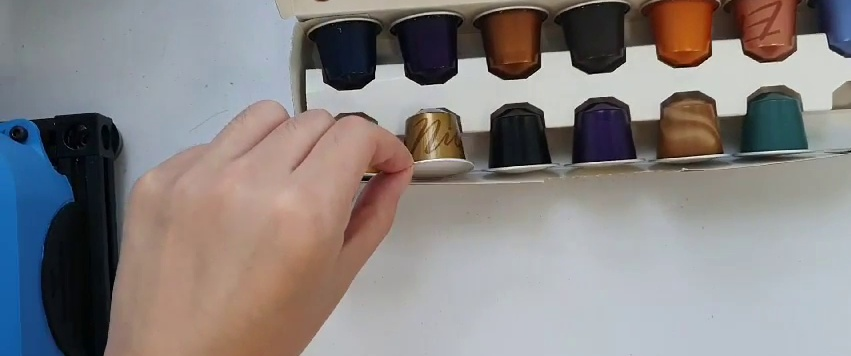capsule_9: (393, 104, 476, 181)
